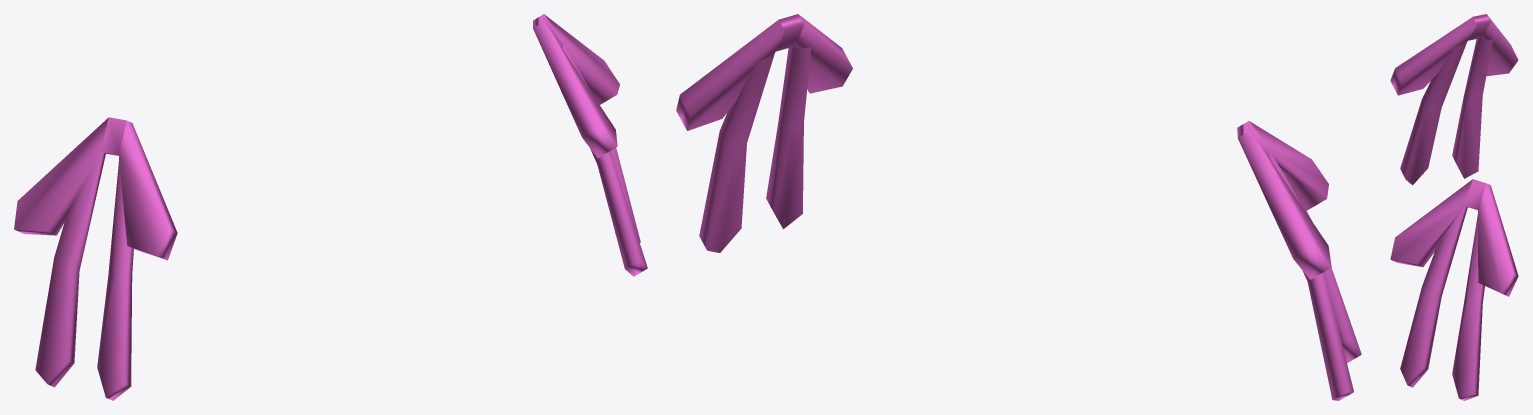
Rendered from LittleGhost_Bow.fbx.
3 renders of one model, left to right at view 1: azimuth 30°, elevation 25°; view 2: azimuth 150°, elevation 25°; view 3: azimuth 270°, elevation 25°, orthographic. The views are drawn at different scales.
Visible parts, largest first — view 1: Bow1, Bow4; view 2: Bow4, Bow1; view 3: Bow4, Bow1.
Part boxes in pixels (box(x1,y1,x2,y2)): Bow1: box(14, 117, 177, 400); Bow4: box(533, 14, 647, 276); Bow4: box(676, 14, 852, 252); Bow1: box(1237, 121, 1361, 400); Bow4: box(1390, 179, 1518, 400); Bow1: box(1390, 14, 1518, 185).
Size of the model in its own units: 0.8678 by 0.338 by 0.2021.
